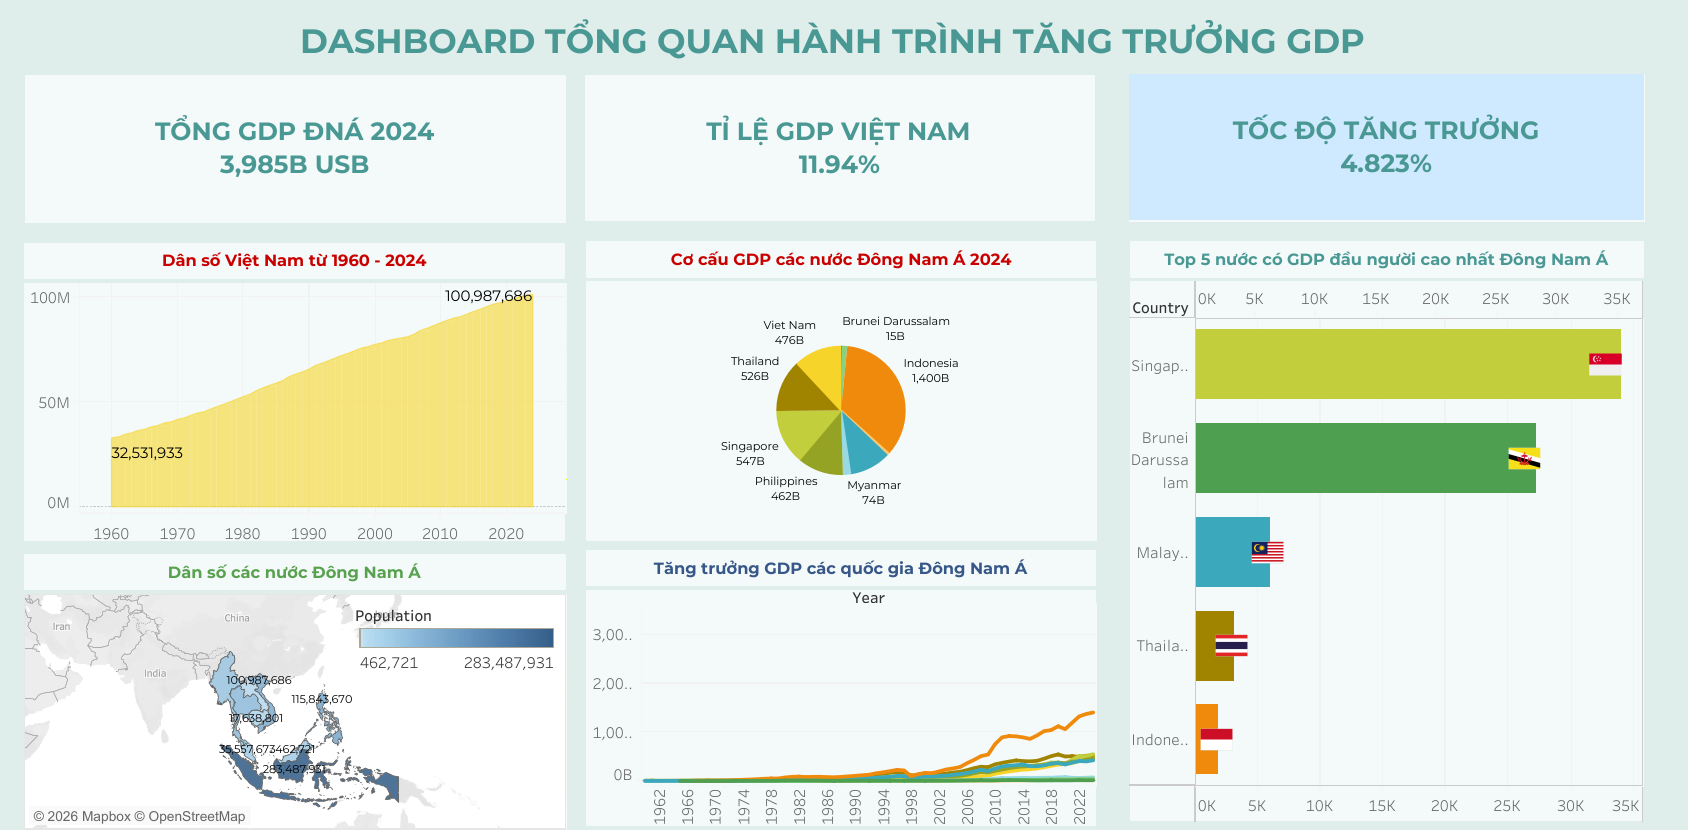

What the dashboard file says about the page in this screenshot:
{"tool":"tableau","page":{"name":"Dashboard 1","canvas":[1000,1000],"units":"permille","ordinal":0},"visuals":[{"type":"text","box":[14.7,12.9,956.7,69.9]},{"type":"worksheet","title":"tốc độ tăng trưởng","mark":"Text","box":[668.4,66.2,304.8,198.5]},{"type":"worksheet","title":"Tổng gdp","mark":"Text","box":[14.7,68,319.5,198.5]},{"type":"worksheet","title":"re","mark":"Text","box":[346.3,68,301.3,196.7]},{"type":"worksheet","title":"Cơ cấu GDP","mark":"Pie","box":[347.2,290.4,302.2,358.5]},{"type":"worksheet","title":"Top 5 GDP đầu người","mark":"Automatic","rows":["REF_AREA_LABEL"],"cols":["Calculation_2169046185464442886","Calculation_2169046185464442886"],"box":[669.3,290.4,303.9,698.5]},{"type":"worksheet","title":"Dân số VN","mark":"Area","rows":["Population, total"],"cols":["Year"],"box":[13.8,292.3,320.4,358.5]},{"type":"worksheet","title":"GDP ĐNA","mark":"Line","rows":["GDP (current US$)"],"cols":["Year"],"box":[347.2,661.8,302.2,332.7]},{"type":"worksheet","title":"Dân số ĐNA","mark":"Multipolygon","box":[13.8,665.4,321.2,332.7]},{"type":"legend","title":"Dân số ĐNA","param":"[federated.04rpkip18chm5k1cr5qaw1equtsi].[sum:Population, total:qk]","box":[210.4,720.6,121.2,139.7]}]}

Visuals, with their boxes on the dashboard's canvas, which has no fixed pixel size, in thousandths of its width and height (x1, y1, x2, y2). These are canvas units, not pixel positions in the 1688x830 screenshot, which may show the page scaled, cropped or inside an application window:
text: x1=15, y1=13, x2=971, y2=83
"tốc độ tăng trưởng" worksheet (Text marks): x1=668, y1=66, x2=973, y2=265
"Tổng gdp" worksheet (Text marks): x1=15, y1=68, x2=334, y2=266
"re" worksheet (Text marks): x1=346, y1=68, x2=648, y2=265
"Cơ cấu GDP" worksheet (Pie marks): x1=347, y1=290, x2=649, y2=649
"Top 5 GDP đầu người" worksheet: x1=669, y1=290, x2=973, y2=989
"Dân số VN" worksheet (Area marks): x1=14, y1=292, x2=334, y2=651
"GDP ĐNA" worksheet (Line marks): x1=347, y1=662, x2=649, y2=994
"Dân số ĐNA" worksheet (Multipolygon marks): x1=14, y1=665, x2=335, y2=998
"Dân số ĐNA" legend: x1=210, y1=721, x2=332, y2=860
